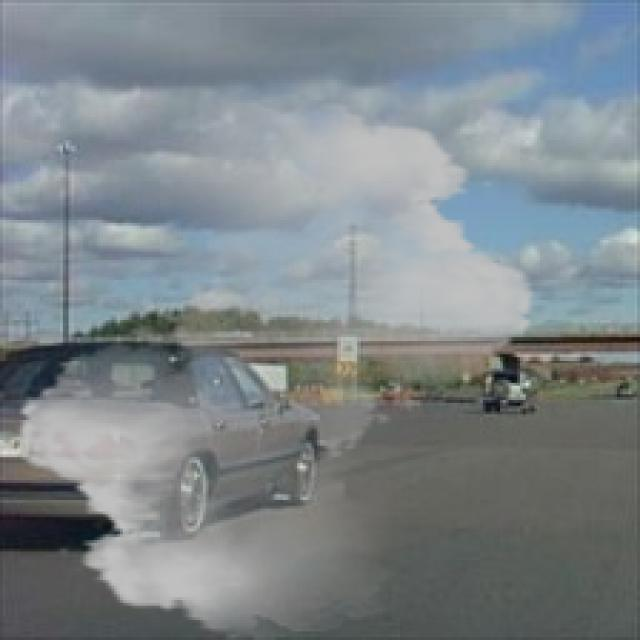Smoke: (0, 94, 555, 638)
